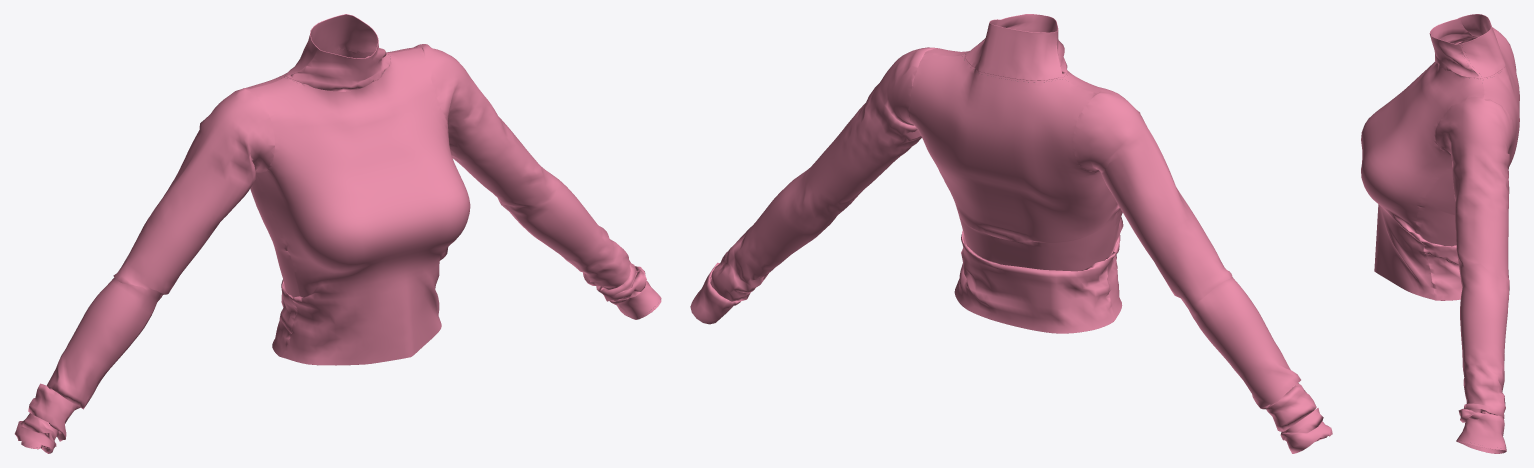
File: top.glb
3 views of the same model, side by side, from view 1: azimuth 30°, elevation 25°; view 2: azimuth 150°, elevation 25°; view 3: azimuth 270°, elevation 25° (orthographic). The views are drawn at different scales.
Visible parts, largest first — view 1: Pattern2D_2183404, Pattern2D_1992237, Pattern2D_1992238, Pattern2D_2183405, Pattern2D_2186106, Pattern2D_2186107; view 2: Pattern2D_2186106, Pattern2D_1992237, Pattern2D_1992238, Pattern2D_2186107, Pattern2D_2183404, Pattern2D_2183405; view 3: Pattern2D_1992238, Pattern2D_2183404, Pattern2D_2186106, Pattern2D_2186107, Pattern2D_2183405.
Boxes of the visible parts, box(x1,y1,x2,y2) form: Pattern2D_2183404: box(246, 48, 470, 365); Pattern2D_1992237: box(14, 88, 274, 453); Pattern2D_1992238: box(413, 44, 661, 319); Pattern2D_2183405: box(286, 36, 390, 91); Pattern2D_2186106: box(245, 47, 421, 357); Pattern2D_2186107: box(286, 14, 377, 75); Pattern2D_2186106: box(909, 51, 1119, 333); Pattern2D_1992237: box(1073, 88, 1332, 453); Pattern2D_1992238: box(690, 47, 939, 324); Pattern2D_2186107: box(965, 19, 1063, 80); Pattern2D_2183404: box(926, 48, 1123, 319); Pattern2D_2183405: box(966, 14, 1067, 76); Pattern2D_1992238: box(1435, 97, 1513, 453); Pattern2D_2183404: box(1361, 39, 1484, 299); Pattern2D_2186106: box(1416, 31, 1519, 300); Pattern2D_2186107: box(1459, 14, 1505, 78); Pattern2D_2183405: box(1429, 18, 1480, 78).
Size of the model in its own units: 1062 by 589 by 273.
